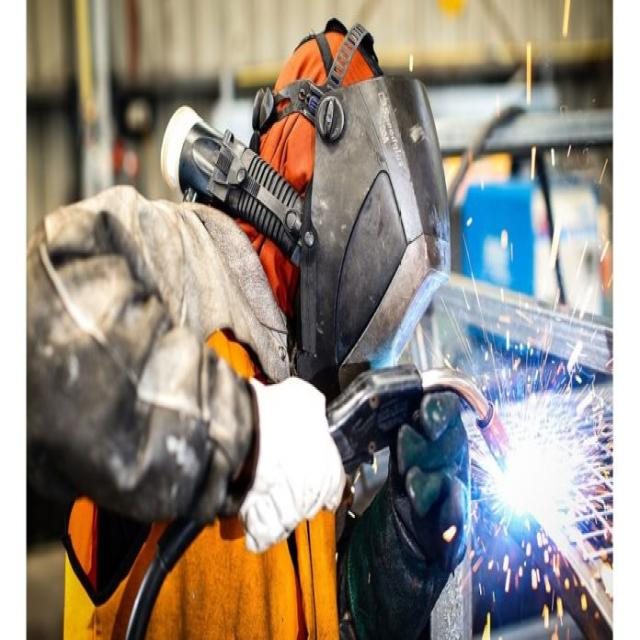welding: (500, 445, 561, 507)
